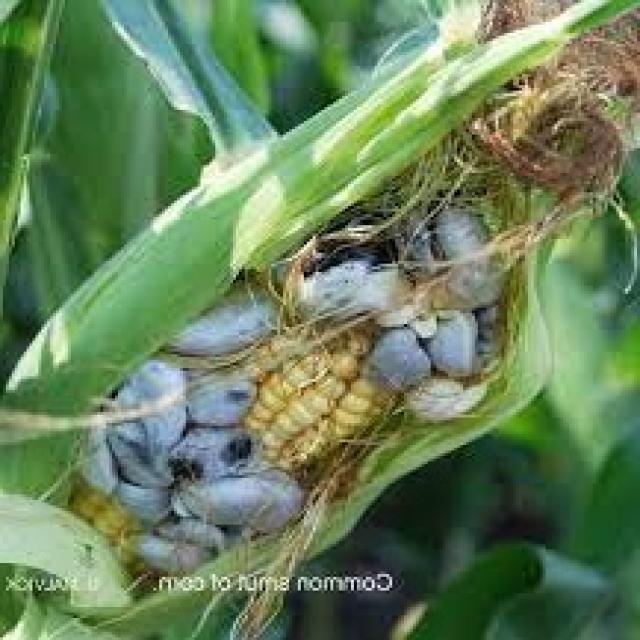Leaf_Scald: (55, 110, 597, 561)
